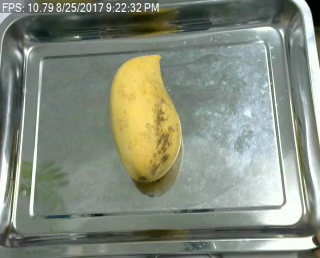Mango: (109, 54, 185, 183)
